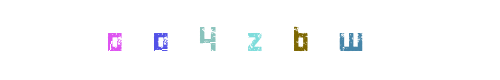4: (205, 0, 285, 80)
B: (259, 0, 339, 80)
O: (74, 0, 154, 80), (119, 0, 199, 80)
W: (311, 0, 391, 80)
Z: (210, 0, 290, 80)
